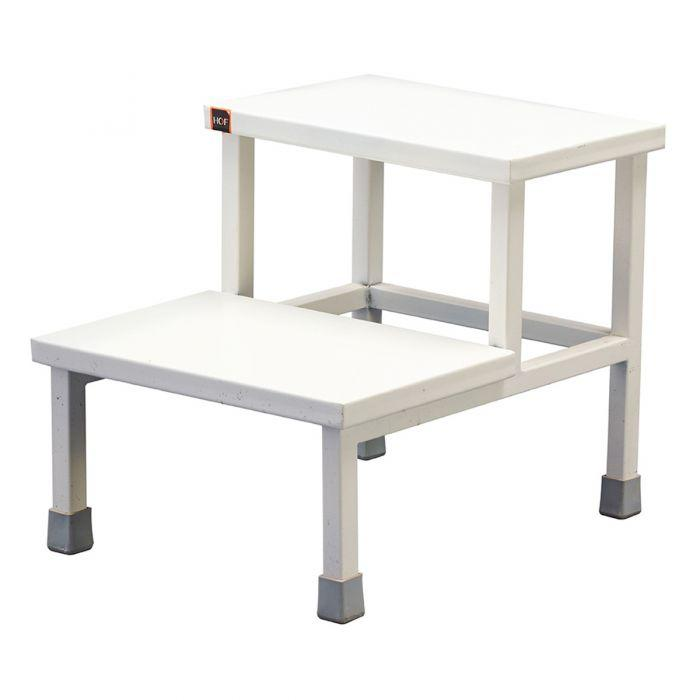stool: (13, 74, 670, 628)
